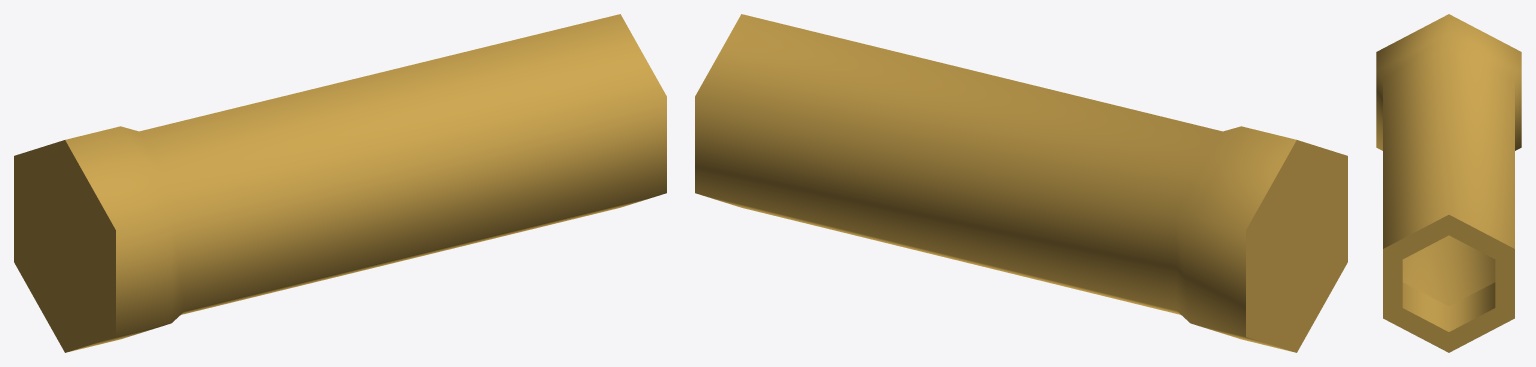
Rendered from fx_shell_casing.glb.
The picture shows the model from 3 angles, left to right: view 1: azimuth 30°, elevation 25°; view 2: azimuth 150°, elevation 25°; view 3: azimuth 270°, elevation 25°; orthographic projection. The views are drawn at different scales.
Visible parts, largest first — view 1: fx_shell_casing__mesh; view 2: fx_shell_casing__mesh; view 3: fx_shell_casing__mesh.
Boxes of the visible parts, x1,y1,x2,y2 form: fx_shell_casing__mesh: [14, 14, 666, 352]; fx_shell_casing__mesh: [695, 14, 1347, 352]; fx_shell_casing__mesh: [1376, 14, 1521, 352].
Bounding box in the file's own units: 0.03 × 0.011 × 0.00953.
Materials: 1 (1 with a texture image).
